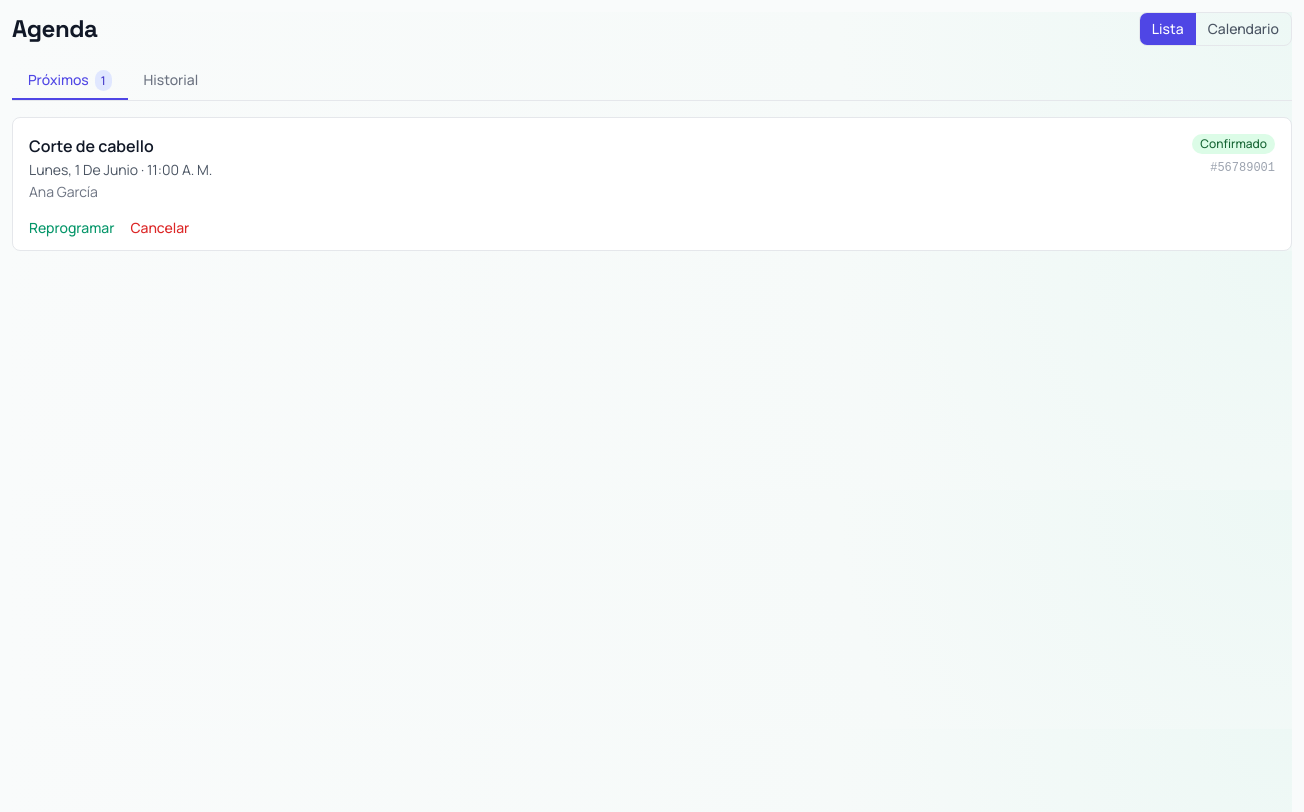
Scenario: StaffAppointmentsPage › empty states › shows empty state on Historial tab
This screenshot has width=1304, height=812.
Click the button "Historial" at (171, 81), box 128,62 -> 214,100
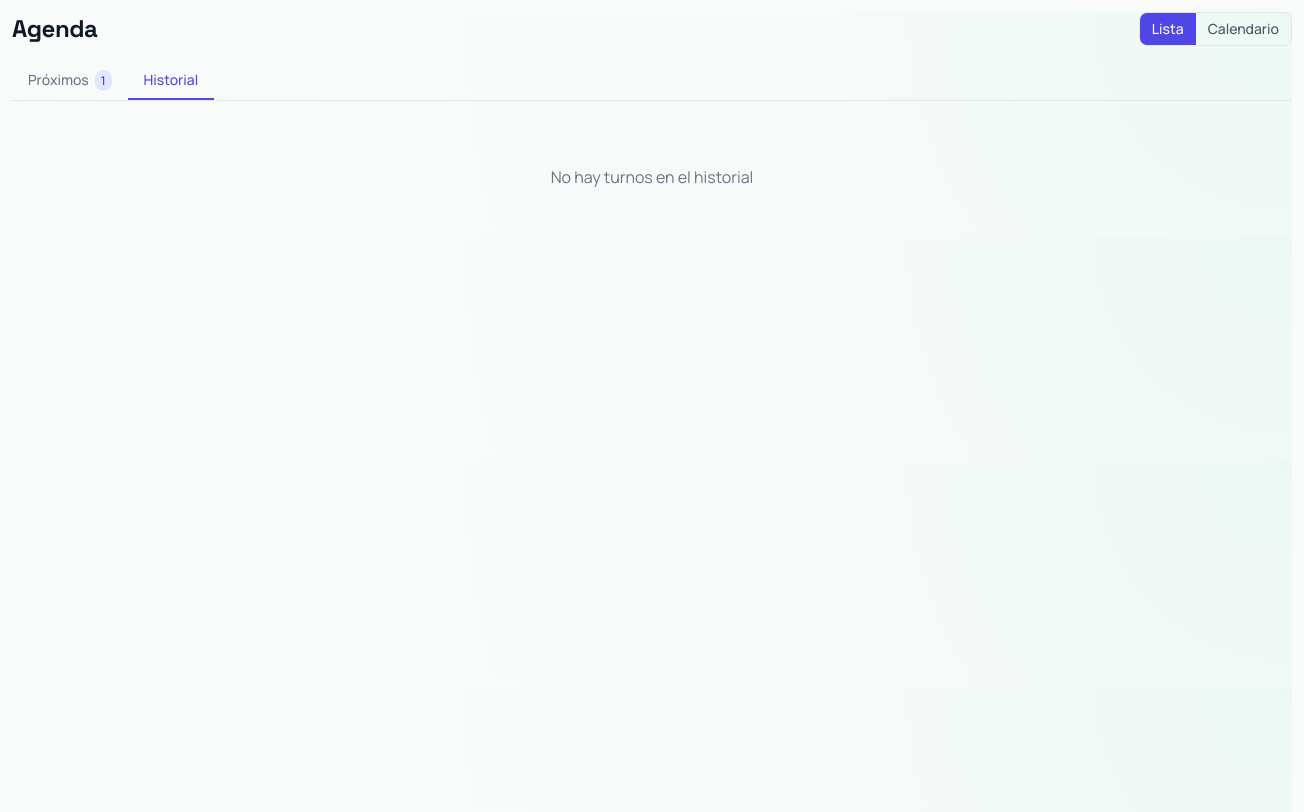
Now the text "No hay turnos en el historial" is shown, box 551,166 -> 753,188
